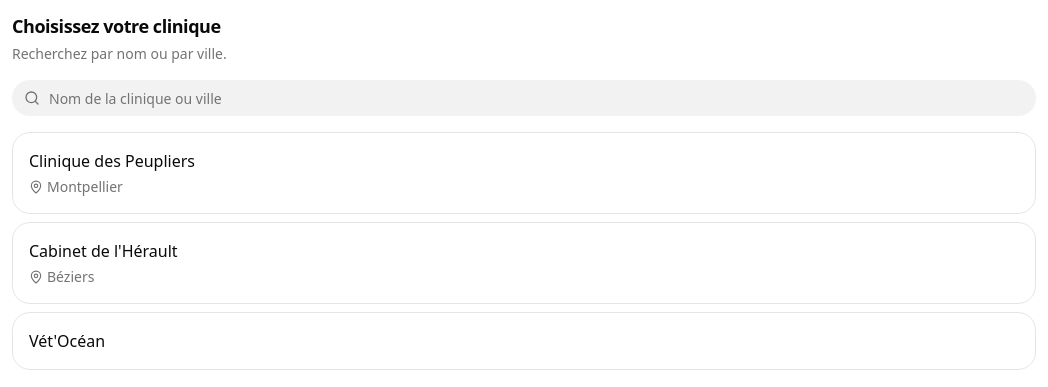
Scenario: StepClinic — recherche › le dit quand rien ne correspond
Step 1. Type "zzzz" into the search field named "Rechercher une clinique" → [524, 98], box [12, 80, 1036, 116]
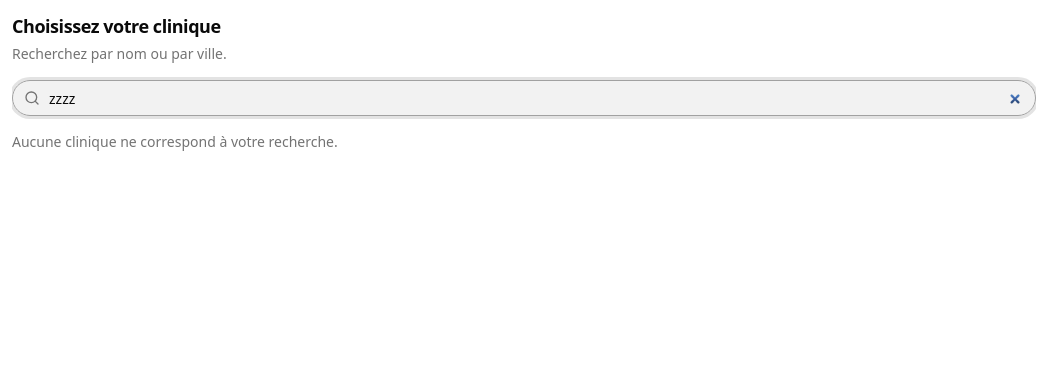
Now the text "Aucune clinique ne correspond à votre recherche." is shown, box [12, 132, 338, 151]
